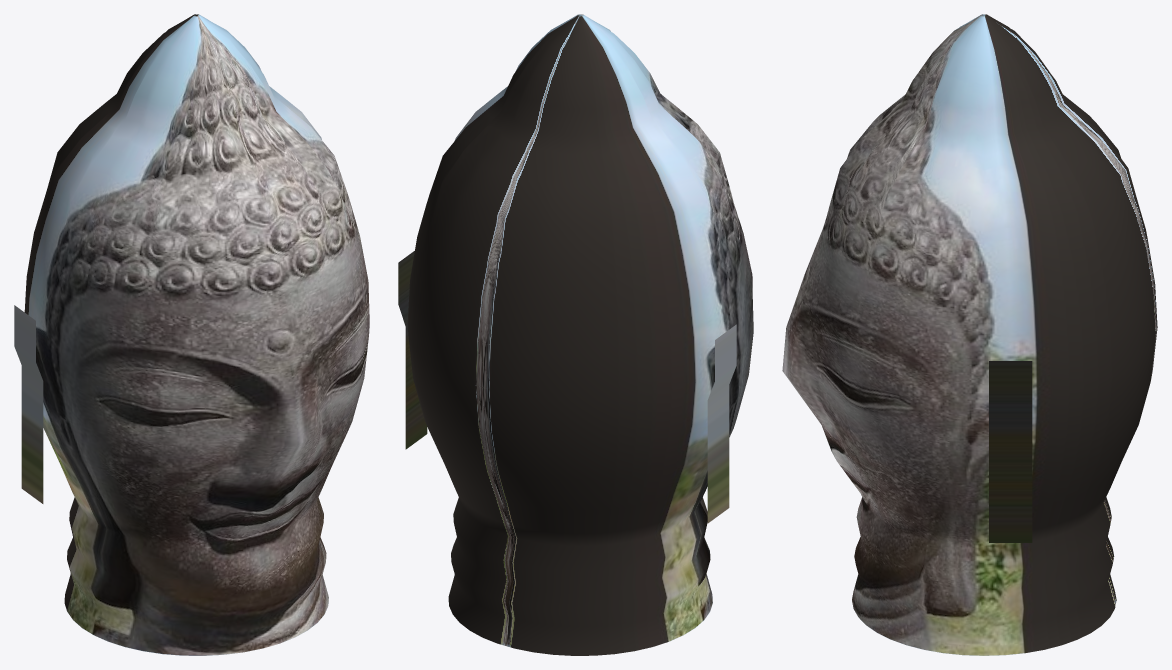
The model's file is buddha.glb.
3 views of the same model, side by side, from view 1: azimuth 30°, elevation 25°; view 2: azimuth 150°, elevation 25°; view 3: azimuth 270°, elevation 25° (orthographic).
Visible parts, largest first — view 1: Buddha_Head_Sculpture; view 2: Buddha_Head_Sculpture; view 3: Buddha_Head_Sculpture.
Part boxes in pixels (x1,y1,x2,y2): Buddha_Head_Sculpture: (14, 14, 369, 655); Buddha_Head_Sculpture: (398, 14, 753, 655); Buddha_Head_Sculpture: (782, 14, 1157, 655).
Bounding box in the file's own units: 0.152 × 0.268 × 0.1559.
1 material, 1 textured.
